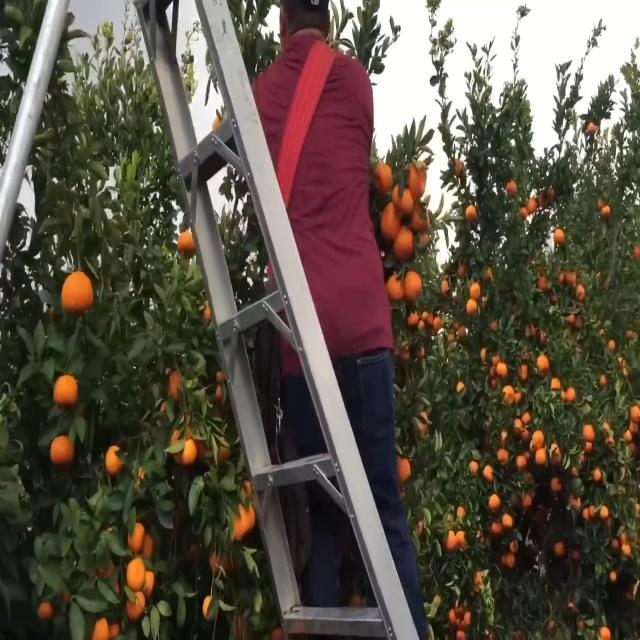Jeruk Sudah Matang: (60, 266, 96, 316), (52, 373, 81, 409), (49, 432, 76, 466), (174, 225, 200, 258), (387, 270, 408, 306), (178, 438, 199, 473), (124, 559, 147, 590), (104, 444, 125, 474), (126, 520, 146, 550), (406, 268, 422, 302), (397, 454, 415, 482), (504, 174, 520, 200), (536, 350, 550, 378), (530, 428, 546, 448), (488, 490, 500, 512), (483, 460, 496, 480), (466, 298, 479, 318), (528, 194, 538, 216), (471, 280, 482, 298), (553, 229, 565, 245), (496, 361, 508, 376), (466, 207, 476, 220)
